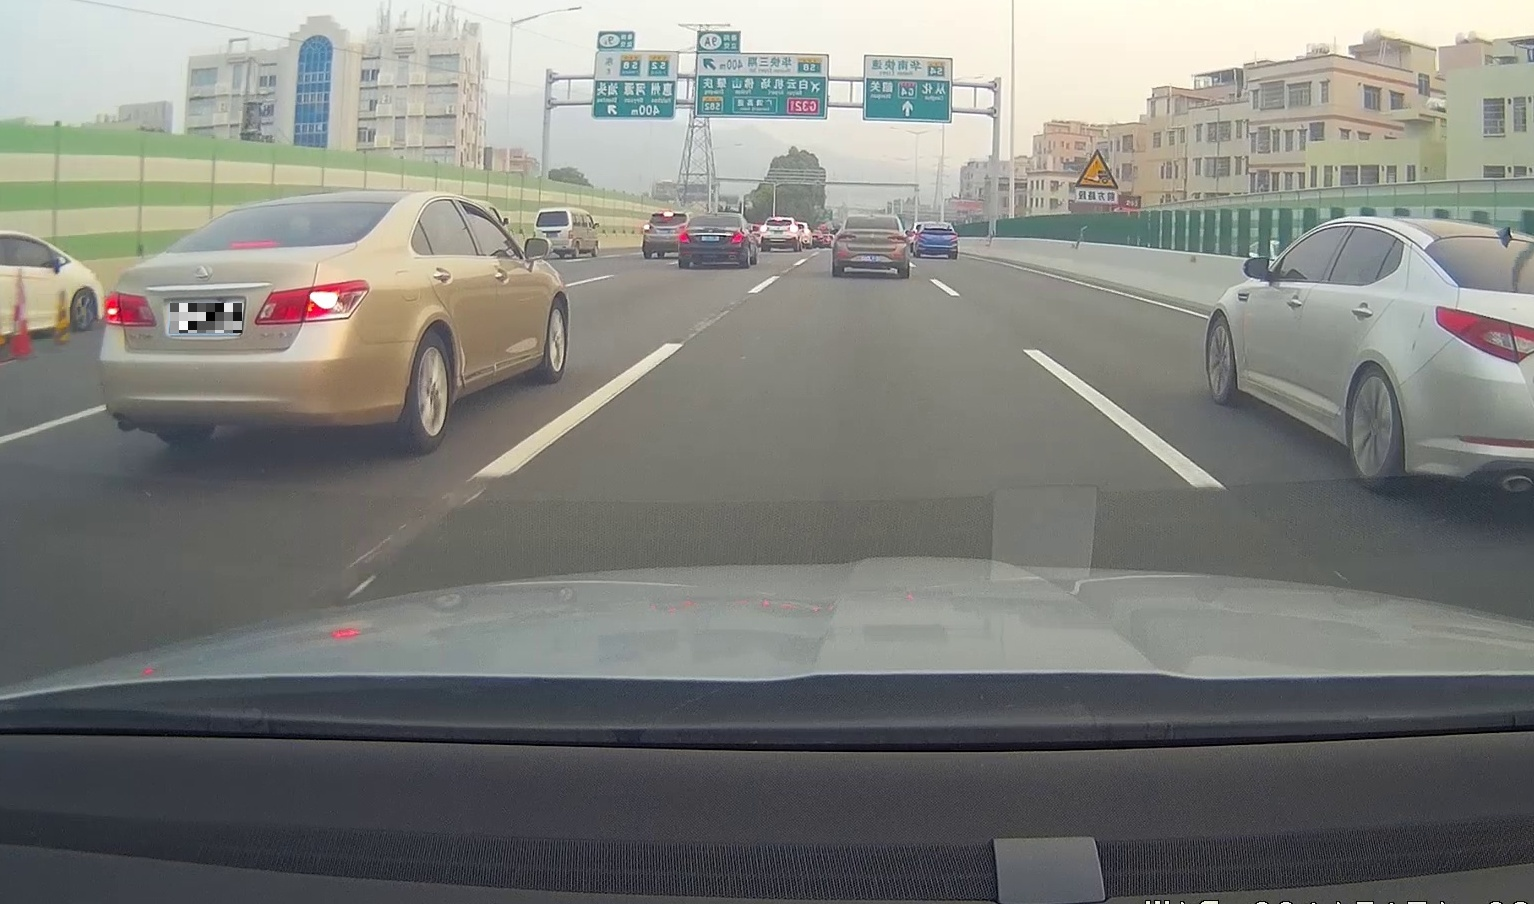L_light: (102, 291, 157, 326), (678, 230, 691, 244), (836, 232, 856, 240)
R_light: (255, 278, 369, 325), (729, 232, 744, 246), (887, 234, 907, 242)
T_light: (230, 239, 279, 248), (710, 216, 722, 218), (865, 216, 876, 218)
day-no: (832, 214, 910, 278), (676, 213, 750, 269)
day-right: (98, 197, 406, 448)
plate_1: (170, 303, 242, 333)
